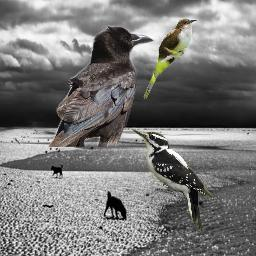Crow: (48, 25, 155, 147)
Cuckoo: (143, 18, 197, 99)
Woodpecker: (131, 126, 212, 232)
